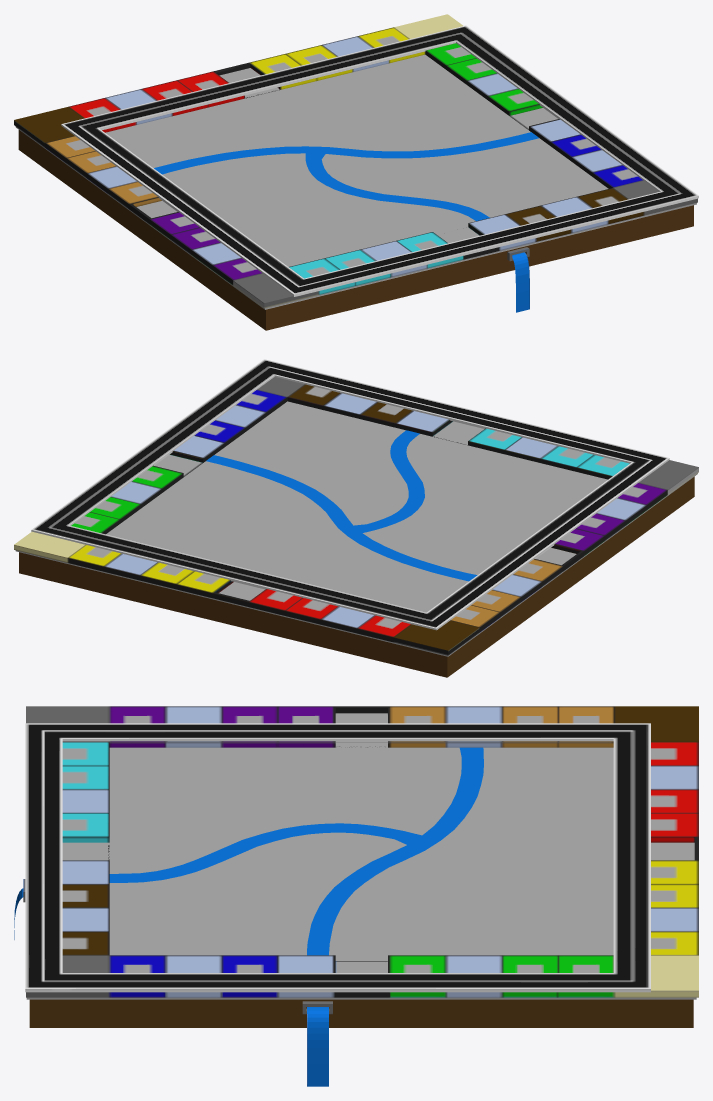
File: plateau.gltf
3 views of the same model, one above another, from view 1: azimuth 30°, elevation 25°; view 2: azimuth 150°, elevation 25°; view 3: azimuth 270°, elevation 25° (orthographic). The views are drawn at different scales.
Parts seen in each view (by area): view 1: base.001; view 2: base.001; view 3: base.001.
Boxes of the visible parts, x1,y1,x2,y2 form: base.001: (14,14,698,330); base.001: (14,359,698,677); base.001: (14,706,698,1086).
Size of the model in its own units: 4.13 by 0.6067 by 4.11.
